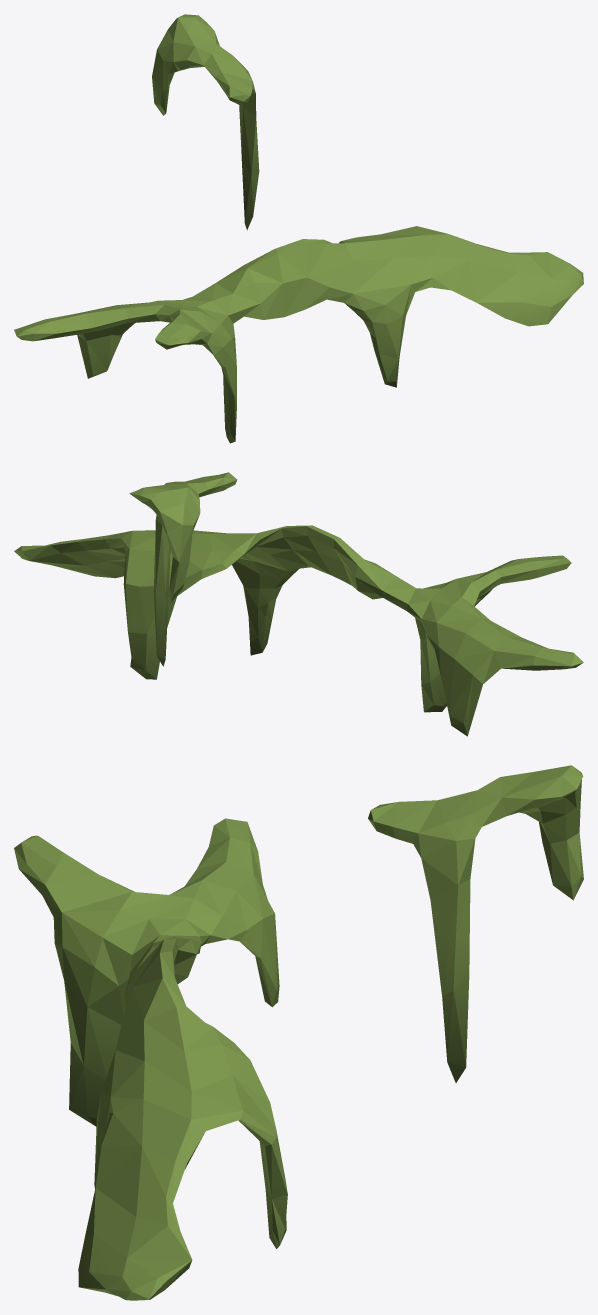
File: Jungle_Branch_A_Grass.fbx
The picture shows the model from 3 angles, top to bottom: view 1: azimuth 30°, elevation 25°; view 2: azimuth 150°, elevation 25°; view 3: azimuth 270°, elevation 25°; orthographic projection. The views are drawn at different scales.
Visible parts, largest first — view 1: Jungle_Branch_A_Grass; view 2: Jungle_Branch_A_Grass; view 3: Jungle_Branch_A_Grass.
Boxes of the visible parts, <box> form: Jungle_Branch_A_Grass: <box>14,14,583,443</box>; Jungle_Branch_A_Grass: <box>14,472,583,736</box>; Jungle_Branch_A_Grass: <box>14,765,583,1300</box>.
Bounding box in the file's own units: 7.53 × 3.81 × 4.49.
Materials: 1 (1 with a texture image).
